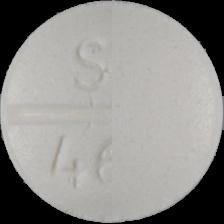69189-1181: (0, 0, 224, 224)
